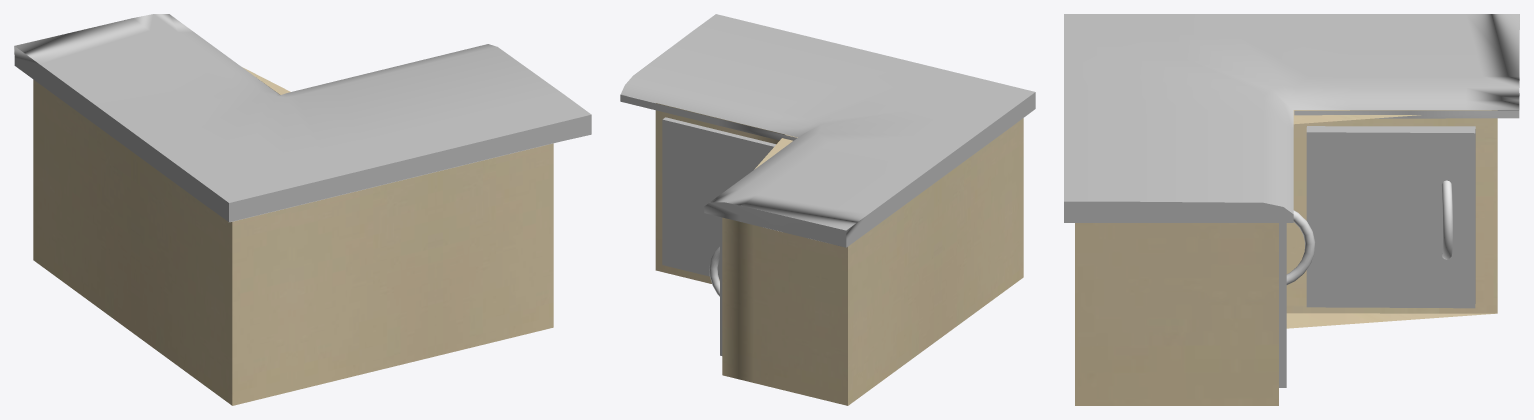
Rendered from narożnik.FBX.
3 renders of one model, left to right at view 1: azimuth 30°, elevation 25°; view 2: azimuth 150°, elevation 25°; view 3: azimuth 270°, elevation 25°, orthographic. The views are drawn at different scales.
Visible parts, largest first — view 1: Box008, Box009; view 2: Box009, Box008, Box010, Box011; view 3: Box009, Box008, Box011, Box010, Torus006, Torus007.
Part boxes in pixels (<box>): Box008: <box>33,67,553,405</box>; Box009: <box>14,14,591,222</box>; Box009: <box>620,14,1035,247</box>; Box008: <box>655,103,1023,405</box>; Box010: <box>662,117,775,278</box>; Box011: <box>720,217,722,355</box>; Box009: <box>1064,14,1519,222</box>; Box008: <box>1075,110,1497,405</box>; Box011: <box>1306,126,1475,308</box>; Box010: <box>1279,223,1286,387</box>; Torus006: <box>1286,210,1315,284</box>; Torus007: <box>1441,180,1452,259</box>.
Bounding box in the file's own units: 163 × 89.82 × 168.
